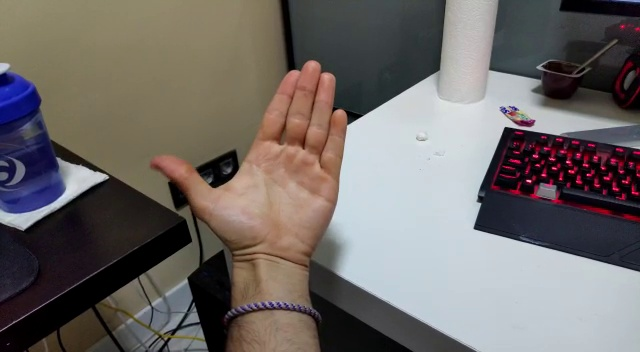Palm: (149, 57, 346, 263)
